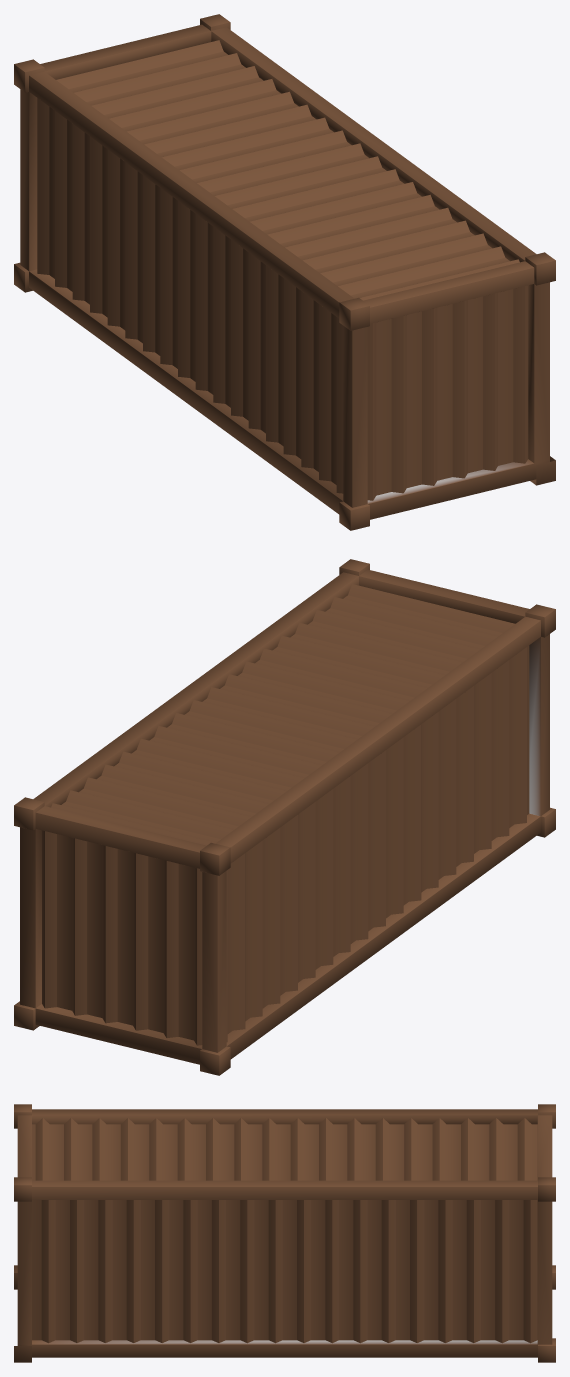
Rendered from container.fbx.
3 renders of one model, top to bottom at view 1: azimuth 30°, elevation 25°; view 2: azimuth 150°, elevation 25°; view 3: azimuth 270°, elevation 25°, orthographic. The views are drawn at different scales.
Visible parts, largest first — view 1: Container; view 2: Container; view 3: Container.
Part boxes in pixels (x1,y1,x2,y2): Container: (14,14,555,530); Container: (14,559,555,1075); Container: (14,1104,555,1362).
Size of the model in its own units: 541 by 555 by 1537.
